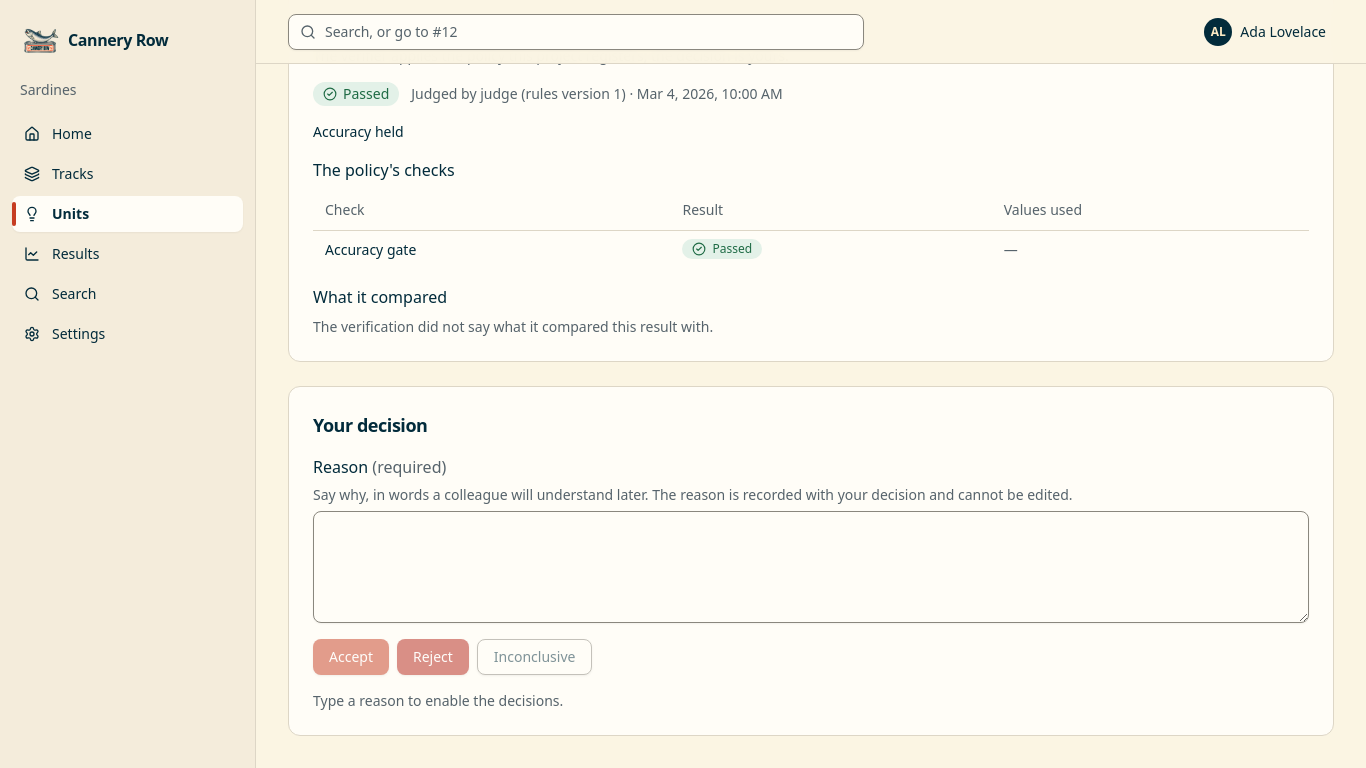
Test: reviewing a result › explains a stale decision and offers to reload, keeping the dialog's reason
The width and height of the screenshot is (1366, 768).
(page scrolled)
Type "Looks right" into the text box labelled "Reason (required)". click: (811, 566)
box: [313, 510, 1309, 622]
(page scrolled)
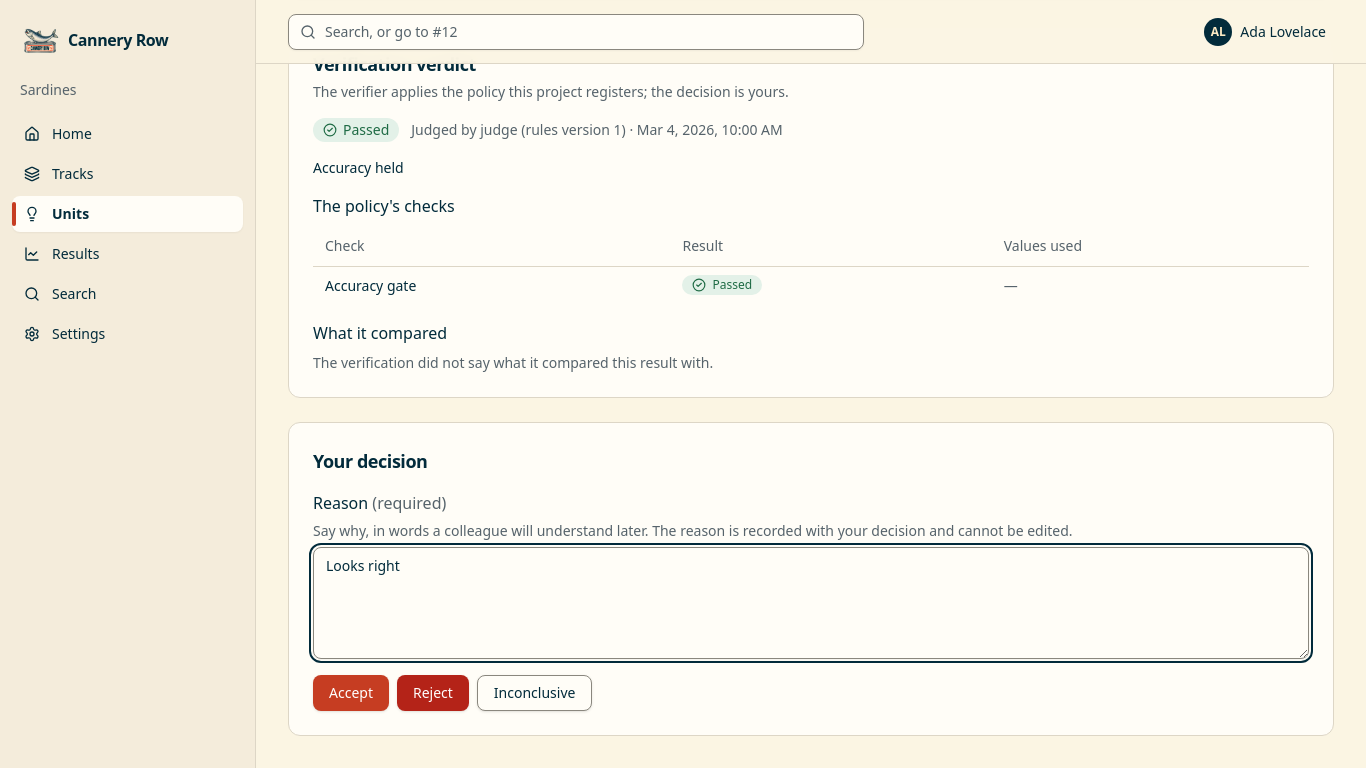
Click the button "Reject". click: (433, 692)
box: [397, 674, 469, 710]
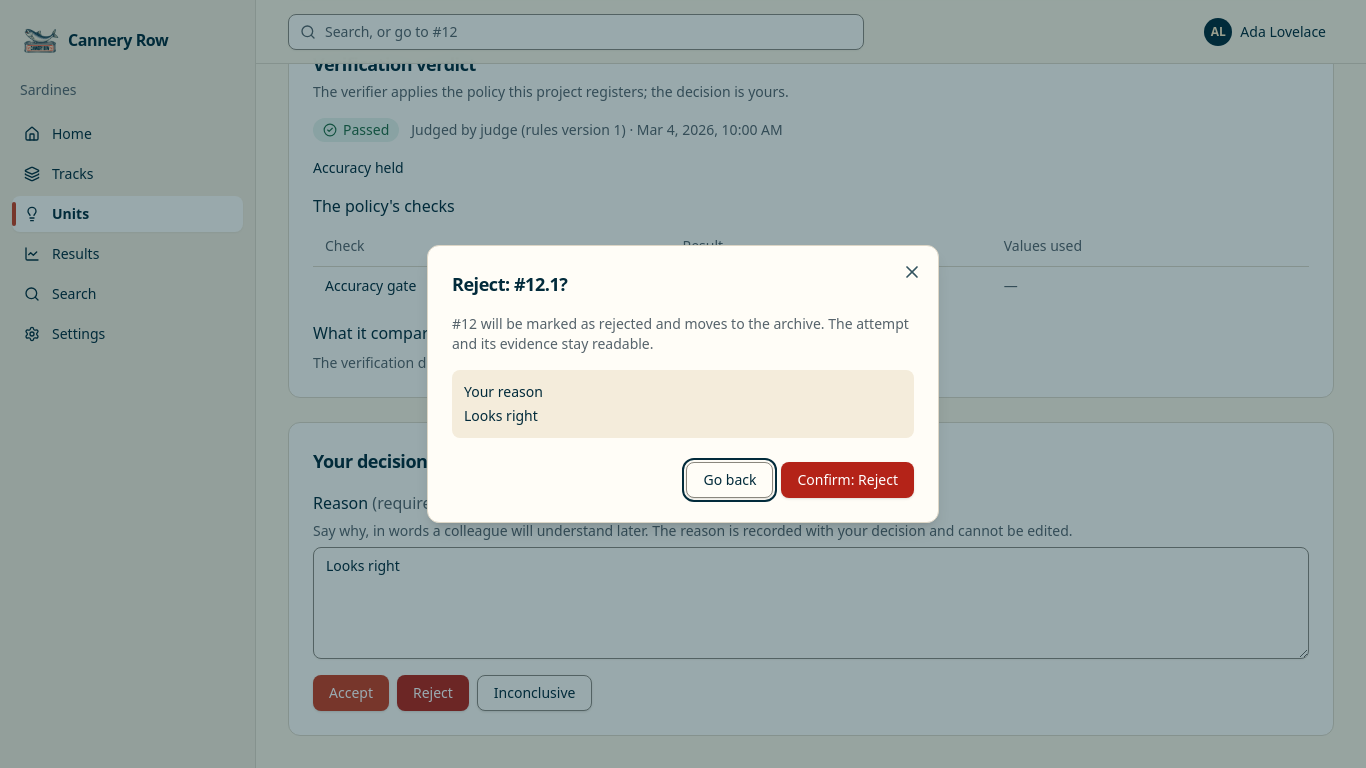
Click the button "Confirm: Reject". click: (848, 480)
box: [781, 462, 914, 498]
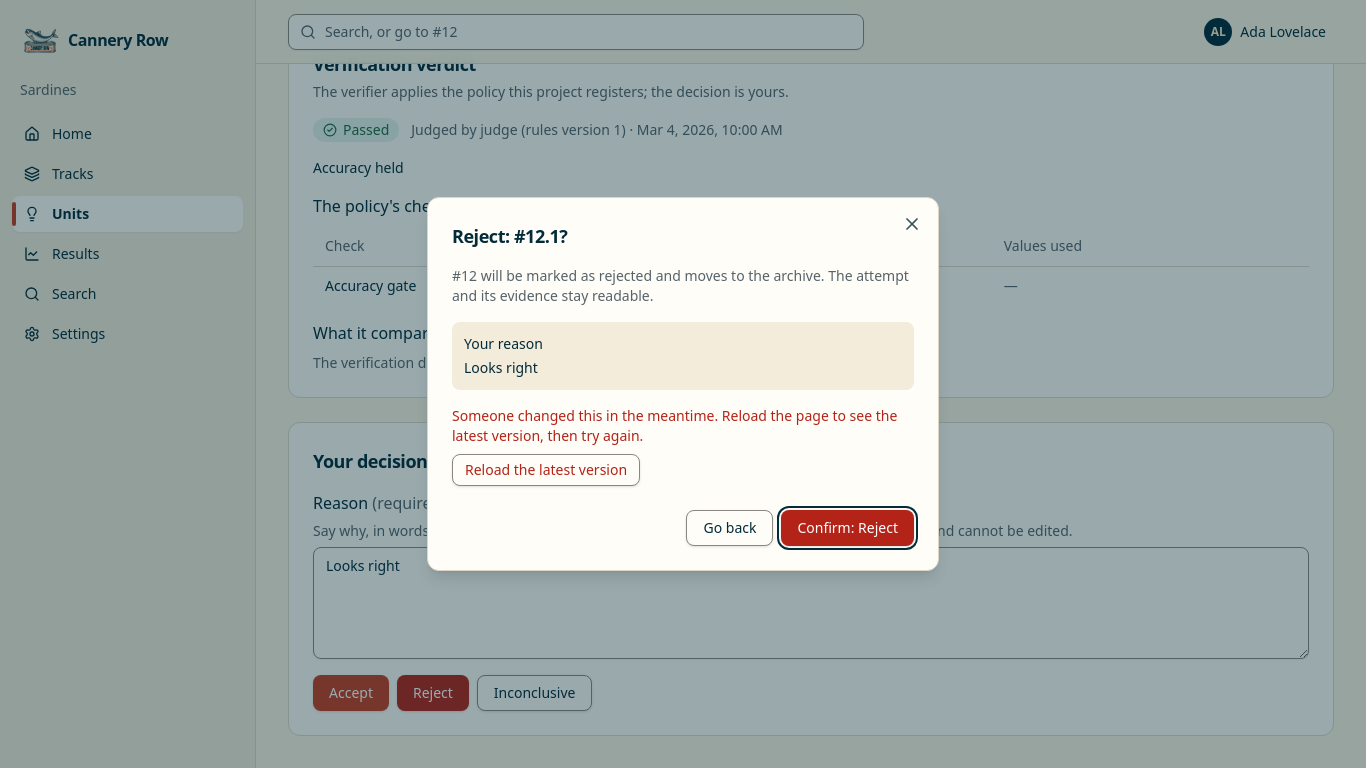
Expected: the message shows "changed", [452, 406, 897, 445]
Expected: the button "Reload the latest version" is shown, [452, 454, 640, 486]
